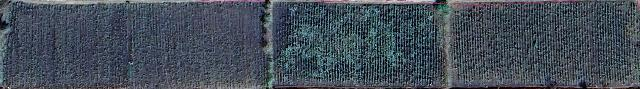Farms: (3, 4, 271, 89), (447, 2, 639, 89), (273, 3, 449, 89)
